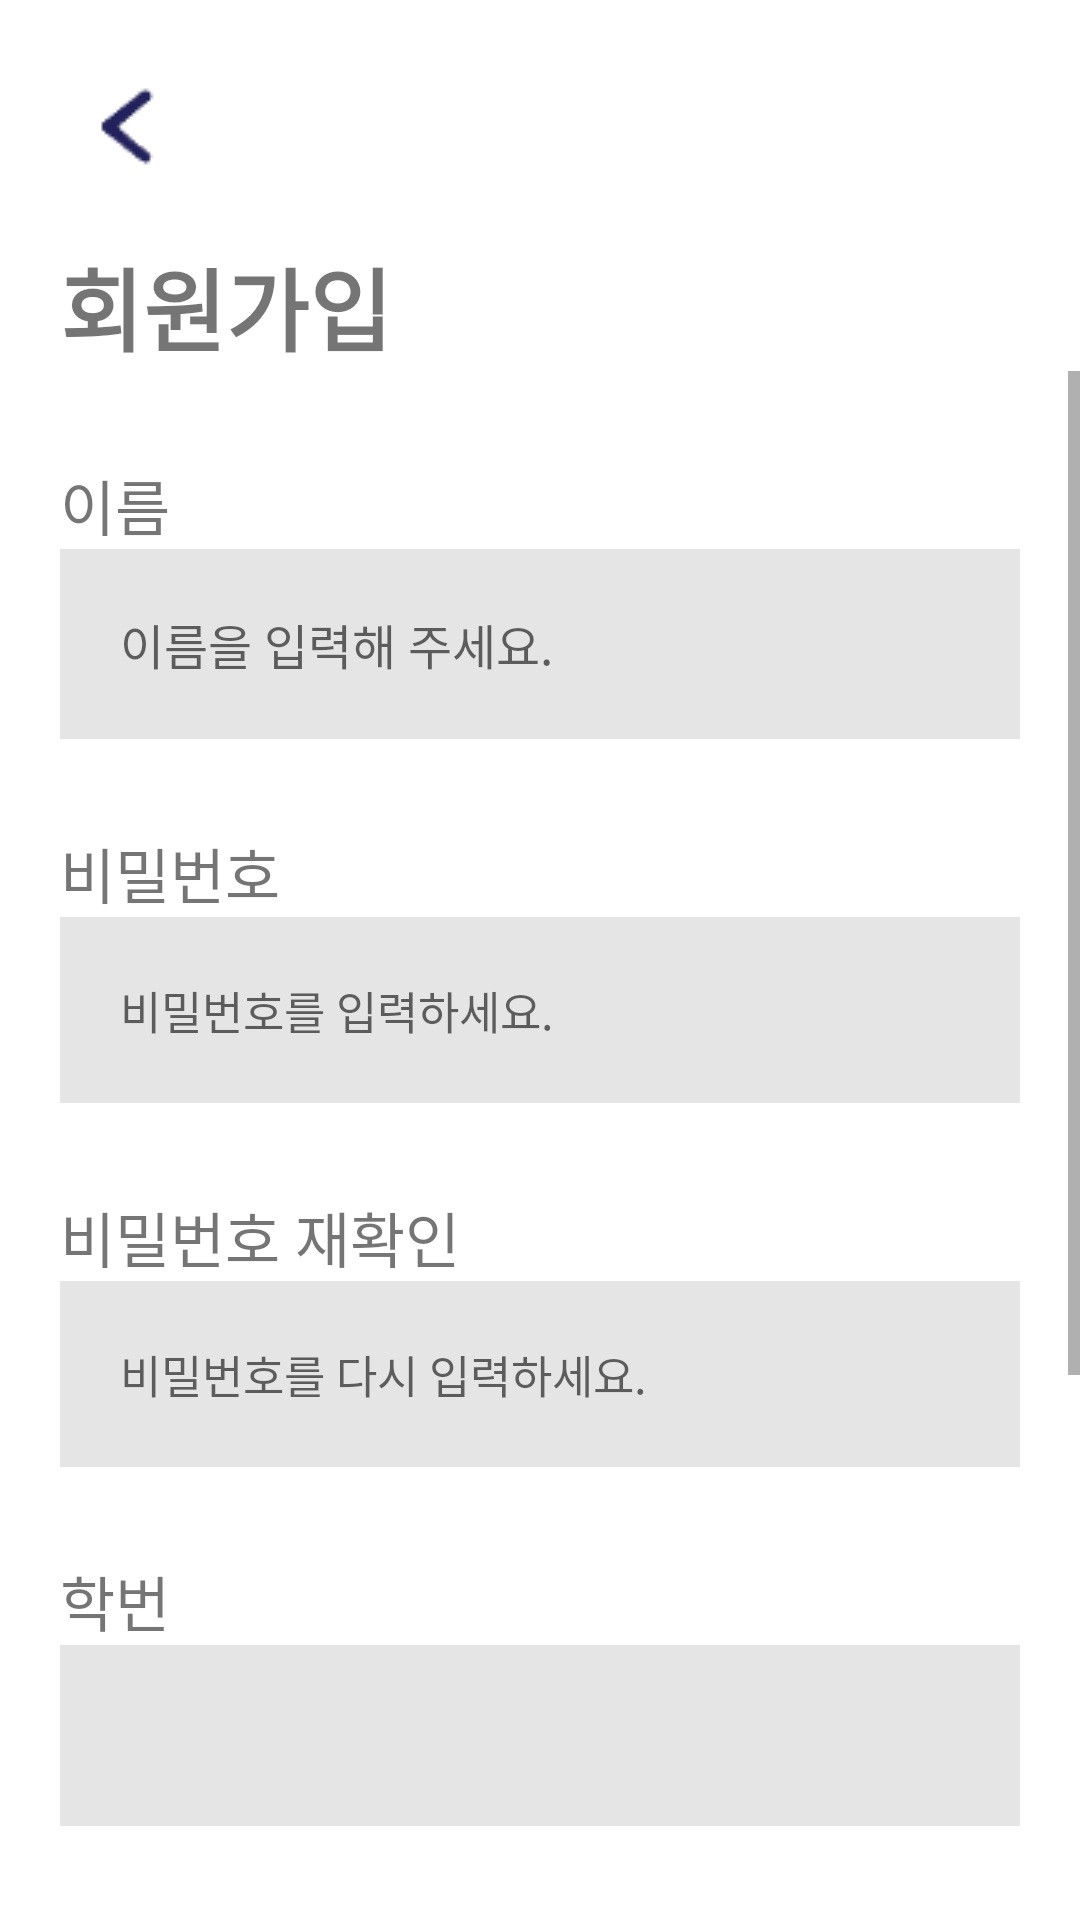

Point at icon controls on the screen. Image size 1080*1920, points as [x,y].
left arrow: [127,126]
